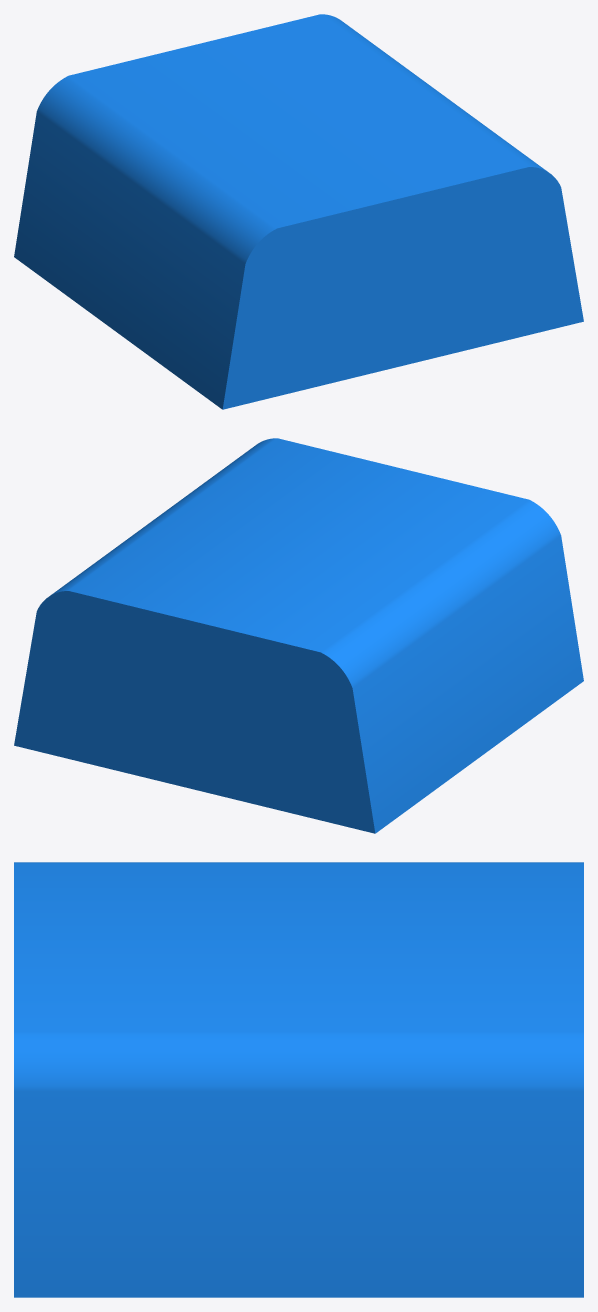
File: original-33.obj
3 views of the same model, one above another, from view 1: azimuth 30°, elevation 25°; view 2: azimuth 150°, elevation 25°; view 3: azimuth 270°, elevation 25° (orthographic). The views are drawn at different scales.
Parts seen in each view (by area): view 1: Group_1_23/Group_1/mesh1/mesh1-geometry#mesh1-geometry; view 2: Group_1_23/Group_1/mesh1/mesh1-geometry#mesh1-geometry; view 3: Group_1_23/Group_1/mesh1/mesh1-geometry#mesh1-geometry.
Boxes of the visible parts, bbox=[...] form: Group_1_23/Group_1/mesh1/mesh1-geometry#mesh1-geometry: bbox=[14, 14, 583, 409]; Group_1_23/Group_1/mesh1/mesh1-geometry#mesh1-geometry: bbox=[14, 438, 583, 833]; Group_1_23/Group_1/mesh1/mesh1-geometry#mesh1-geometry: bbox=[14, 862, 583, 1297].
Size of the model in its own units: 0.0524 by 0.0233 by 0.0524.
